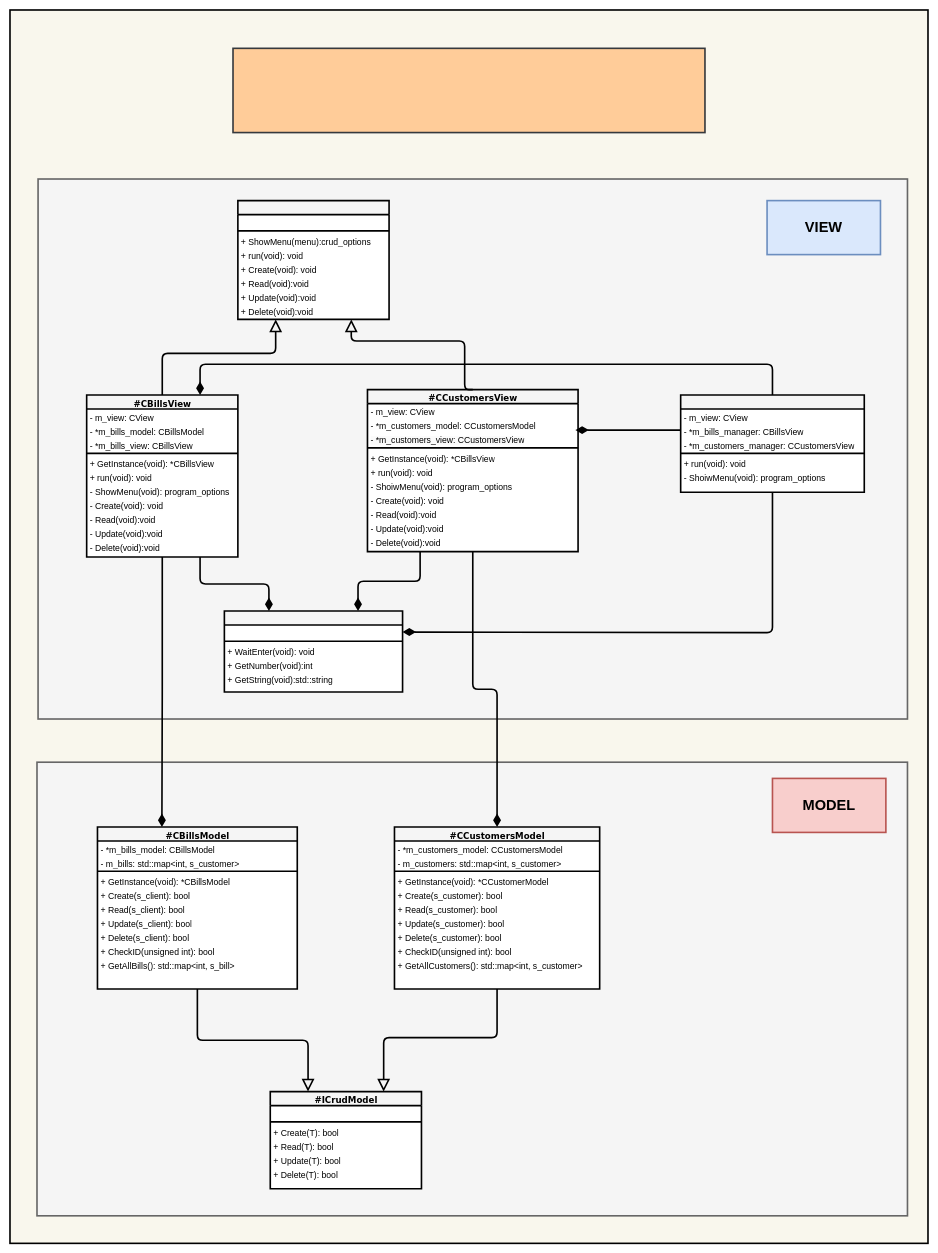
Some shapes in this 938 by 1253 pixel diagram are drawn without their labels. Here are the shapes that lost their labels. From the top down, the box of each, then its label:
(232, 47, 706, 133): Bussiness Manager APP
(237, 200, 390, 320): #ICrudView
(680, 394, 865, 493): #CMainWindow
(223, 610, 403, 693): #CView
